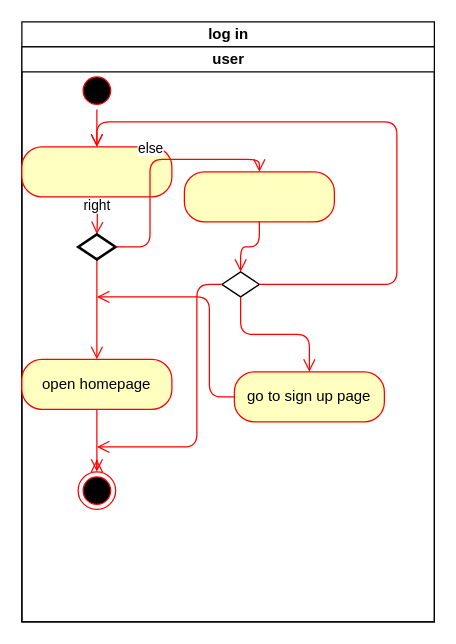
Some shapes in this 456 by 644 pixel diagram are drawn without their labels. The shapes that lost their labels are listed below. From the top down, each one's centre as x and y in pixels, then its label:
point 96,171: enter username and password
point 258,196: show message "invalid username or password"
